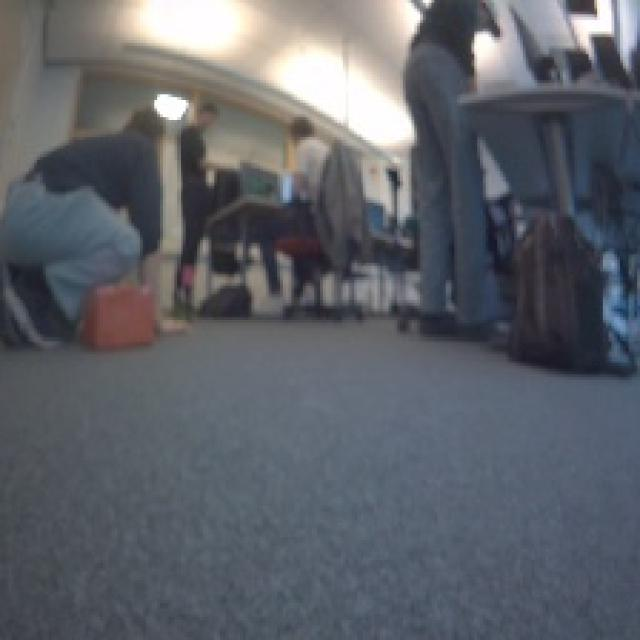robot: (167, 296, 201, 328)
target: (77, 277, 157, 352)
